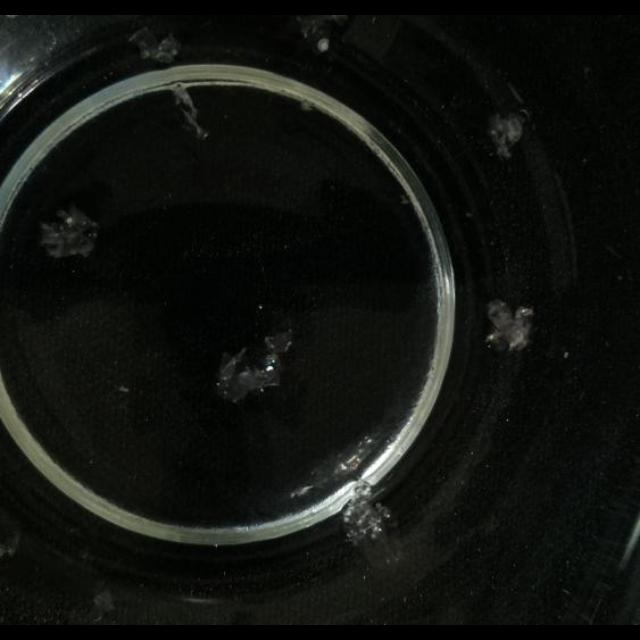Fibre: (340, 487, 392, 551), (172, 84, 210, 140), (128, 25, 180, 63), (89, 588, 118, 622), (299, 100, 315, 112)
Fragment: (214, 330, 292, 402), (40, 206, 100, 260), (485, 301, 535, 354), (488, 112, 526, 158)
microbeads: (118, 385, 130, 393)
